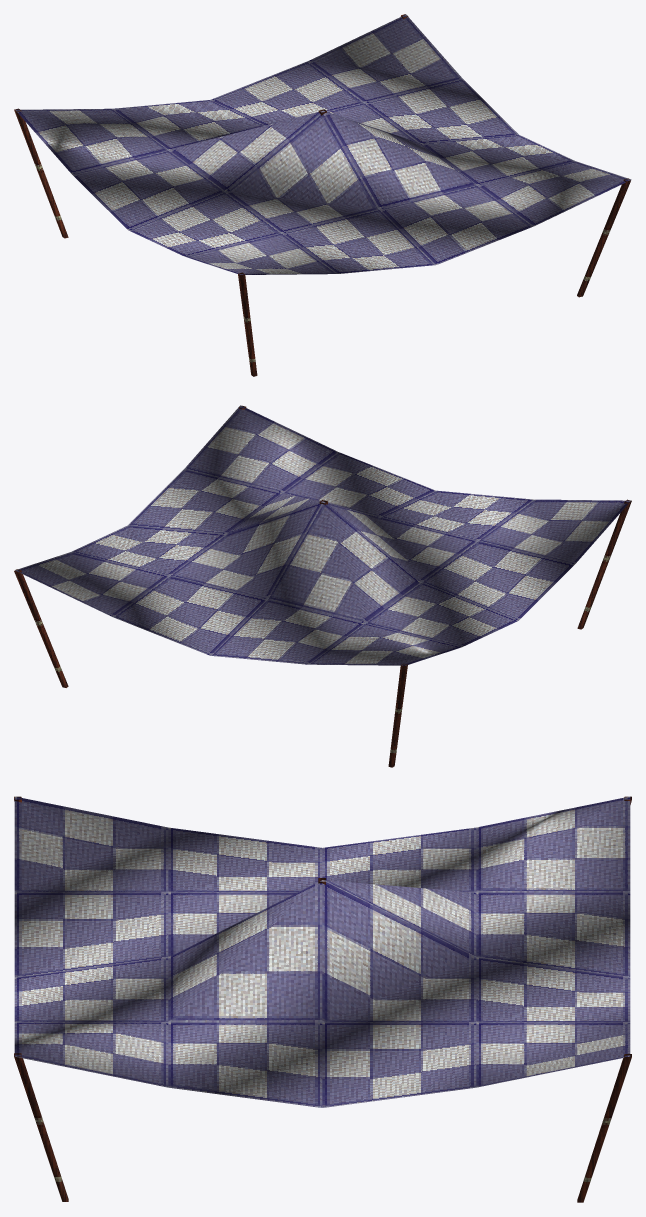
Rendered from CANOPY_ACTORDEF.fbx.
3 views of the same model, one above another, from view 1: azimuth 30°, elevation 25°; view 2: azimuth 150°, elevation 25°; view 3: azimuth 270°, elevation 25° (orthographic). The views are drawn at different scales.
Parts seen in each view (by area): view 1: U3DMesh; view 2: U3DMesh; view 3: U3DMesh.
Part boxes in pixels (x1,y1,x2,y2): U3DMesh: [14, 14, 631, 376]; U3DMesh: [14, 405, 631, 767]; U3DMesh: [14, 796, 631, 1202].
Bounding box in the file's own units: 52.57 × 20.01 × 52.7.
